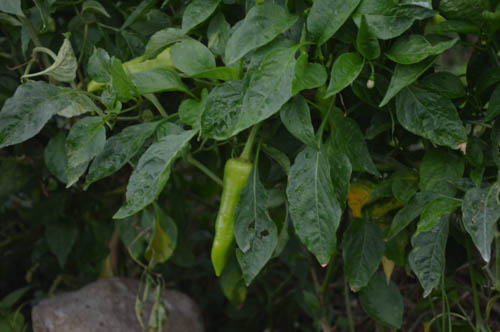ChiliPepper: (206, 152, 260, 283), (88, 38, 197, 96)
